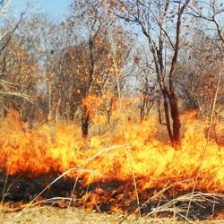fire: (1, 94, 223, 205)
